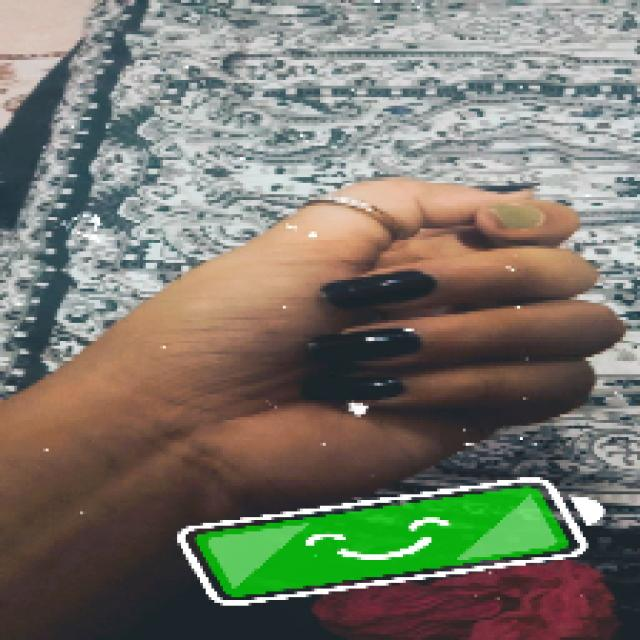Nail: (322, 270, 436, 308), (308, 329, 421, 361), (304, 376, 404, 401), (493, 205, 544, 228), (476, 183, 539, 192)
